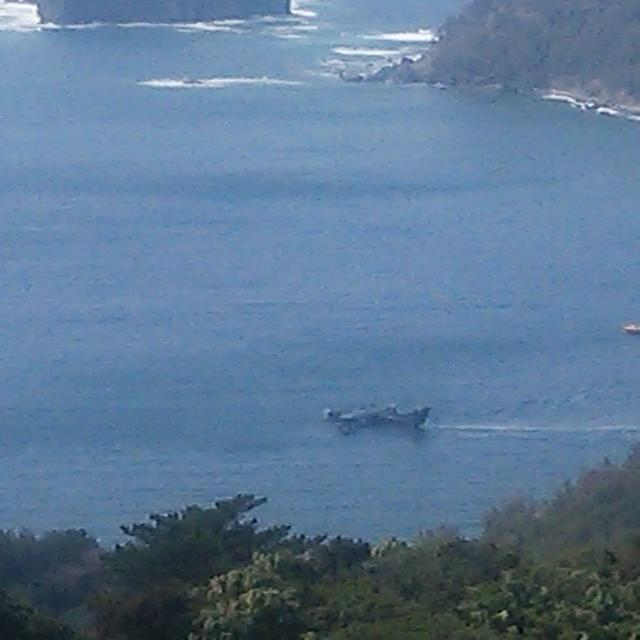MIL_Plane: (320, 402, 433, 436)
